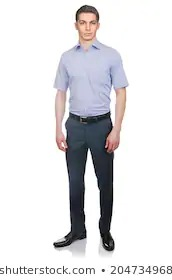F_belt: (67, 110, 113, 122)
F_dress pants: (63, 111, 117, 231)
F_shirt: (49, 40, 129, 114)
